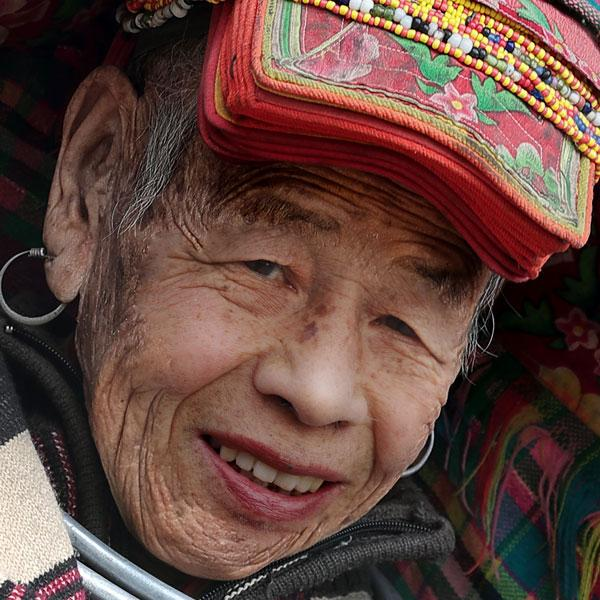Eyes: (355, 288, 452, 366), (215, 234, 307, 305)
